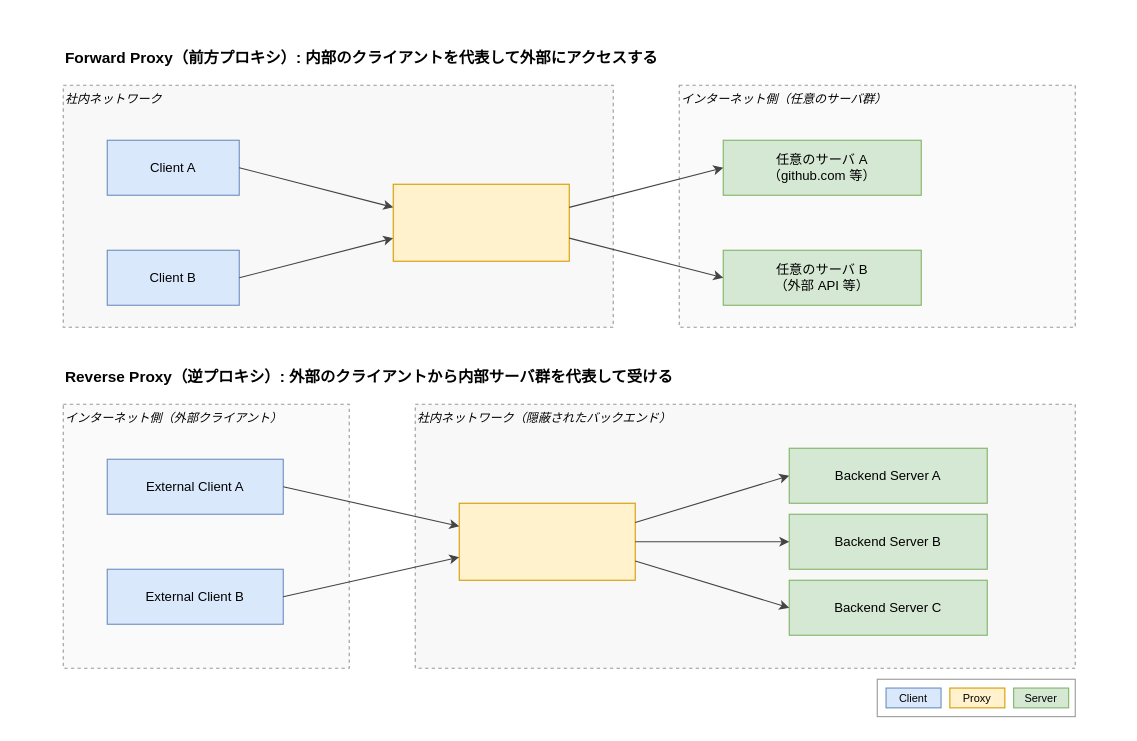
Some shapes in this 1137 by 741 pixel diagram are drawn without their labels. Here are the shapes that lost their labels. From the top down, the centre of each, then its label:
At point (480, 222): "Forward Proxy （送信元を代理）".
At point (546, 541): "Reverse Proxy （受信先を代理）".
